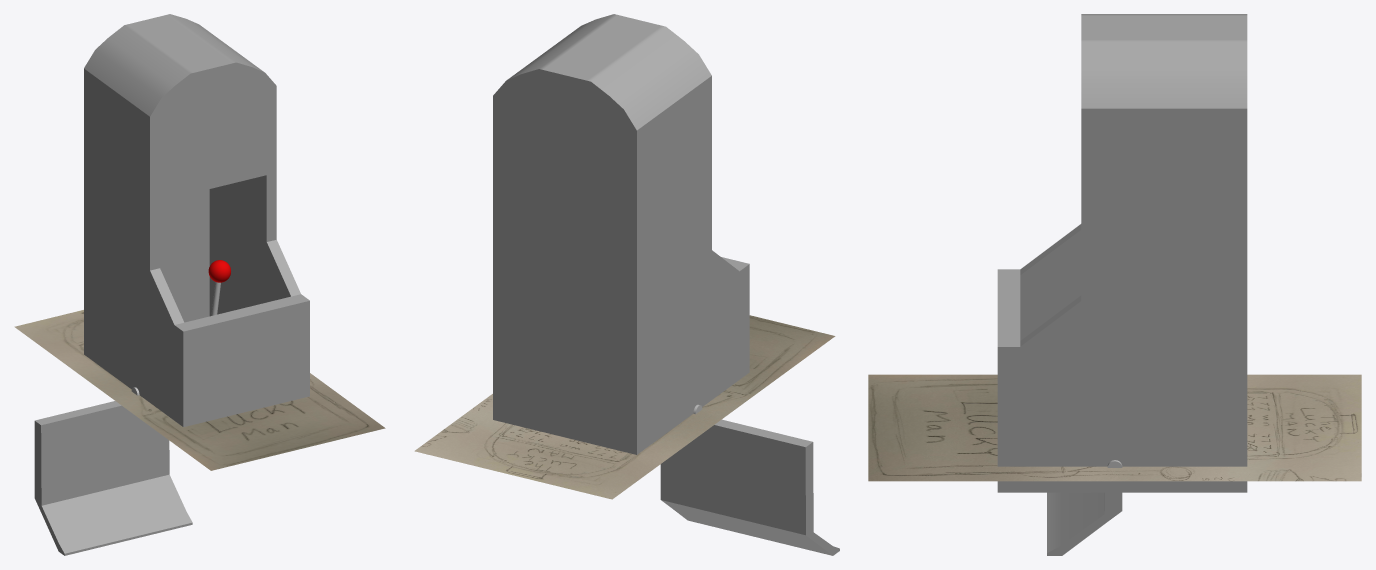
Rendered from PullSwitch.fbx.
The picture shows the model from 3 angles, left to right: view 1: azimuth 30°, elevation 25°; view 2: azimuth 150°, elevation 25°; view 3: azimuth 270°, elevation 25°; orthographic projection. The views are drawn at different scales.
Visible parts, largest first — view 1: pCube2, pCube3, pPlane1, pSphere2; view 2: pCube2, pPlane1, pCube3; view 3: pCube2, pPlane1, pCube3.
Boxes of the visible parts, x1,y1,x2,y2 form: pCube2: [84, 14, 309, 427]; pCube3: [34, 401, 192, 555]; pPlane1: [14, 310, 385, 470]; pSphere2: [208, 260, 230, 315]; pCube2: [493, 14, 749, 454]; pPlane1: [414, 315, 835, 499]; pCube3: [660, 419, 839, 555]; pCube2: [997, 14, 1247, 492]; pPlane1: [868, 374, 1361, 481]; pCube3: [1047, 492, 1122, 555].
Size of the model in its own units: 10.65 by 17.86 by 14.54.
5 materials, 1 textured.
